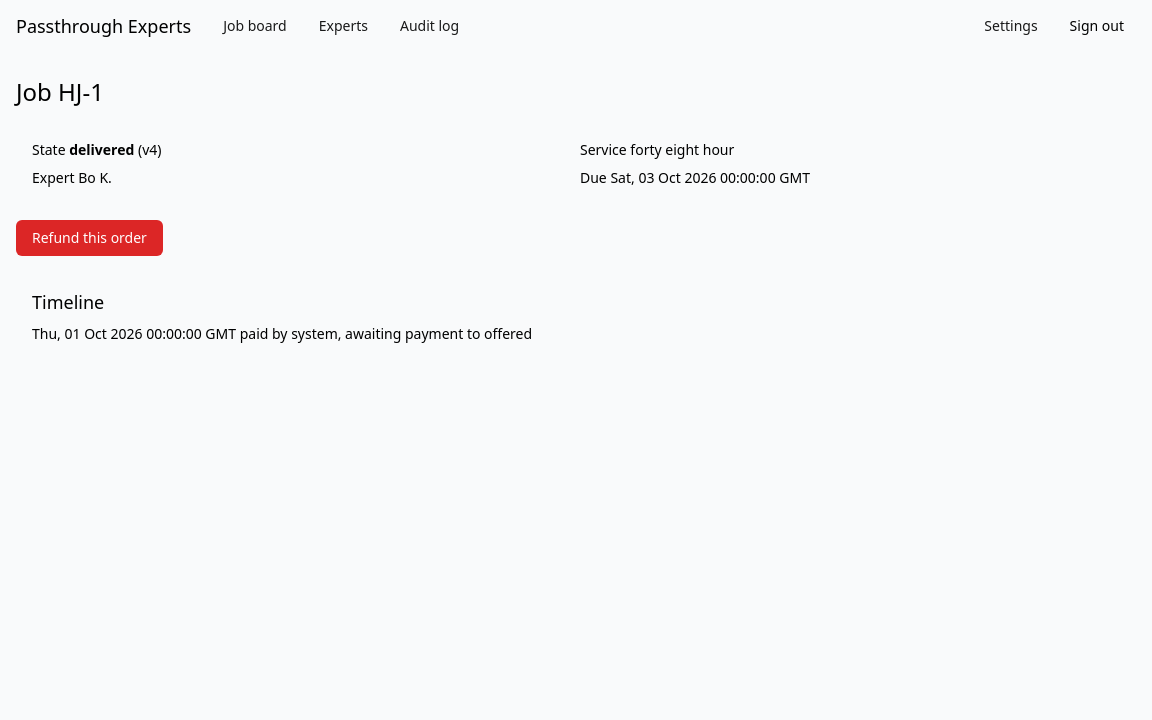
Scenario: the refund confirmation › states the consequence, needs a reason, and asks for the password only when the server requires it, reusing one request key
Click the button "Refund this order".
click(89, 238)  # box [16, 220, 163, 256]
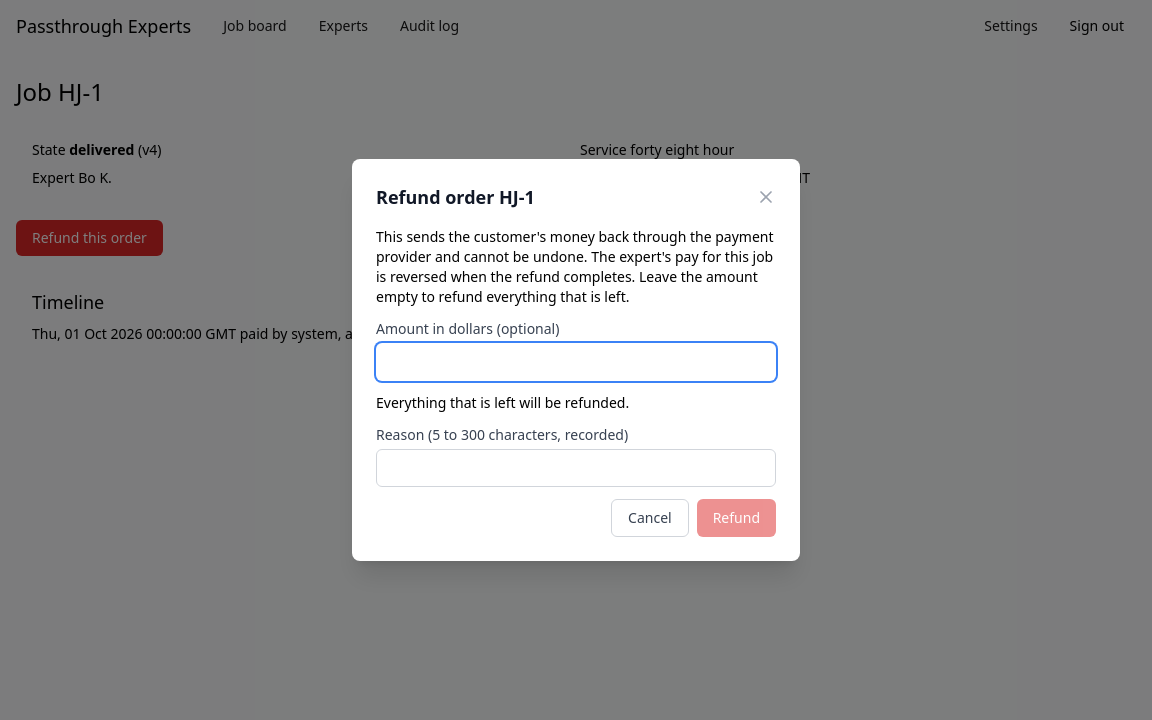
Now the text "cannot be undone" is shown, box [376, 227, 774, 306]
Now the button "Refund" is disabled, box [697, 499, 776, 537]
Type "duplicate order" into the field labelled "Reason (5 to 300 characters, recorded)".
click(576, 468); type("duplicate order")  # box [376, 449, 776, 487]
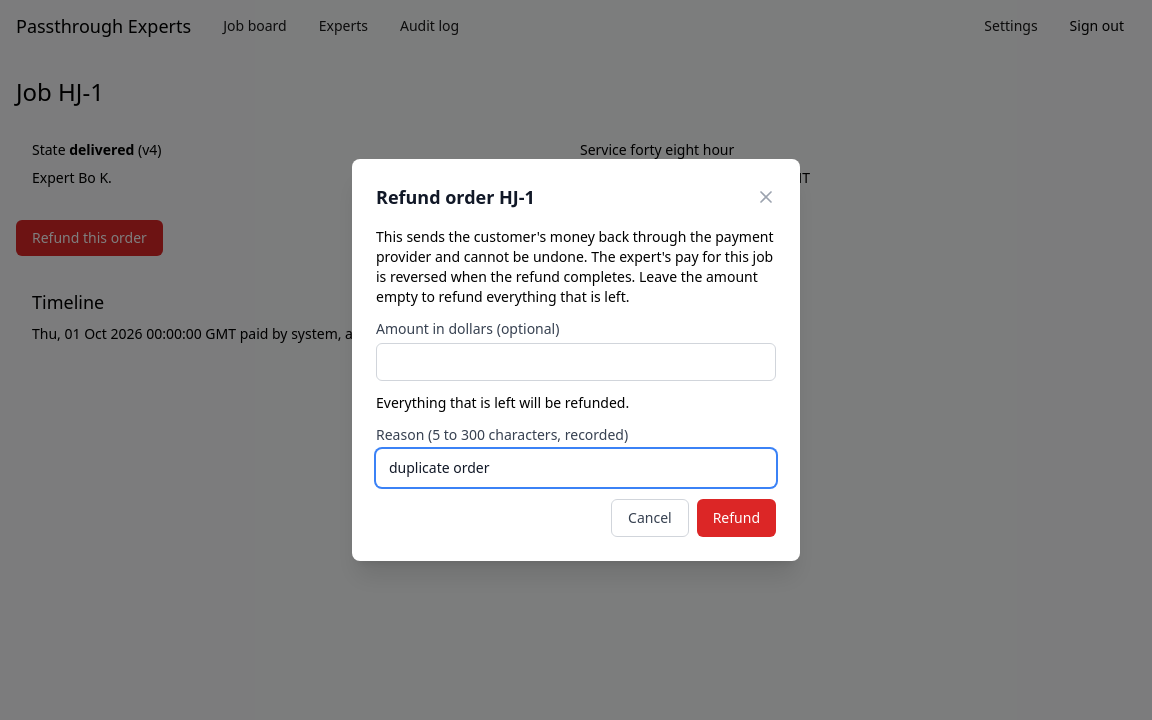
Now the button "Refund" is enabled
Click the button "Refund".
click(736, 518)  # box [697, 499, 776, 537]
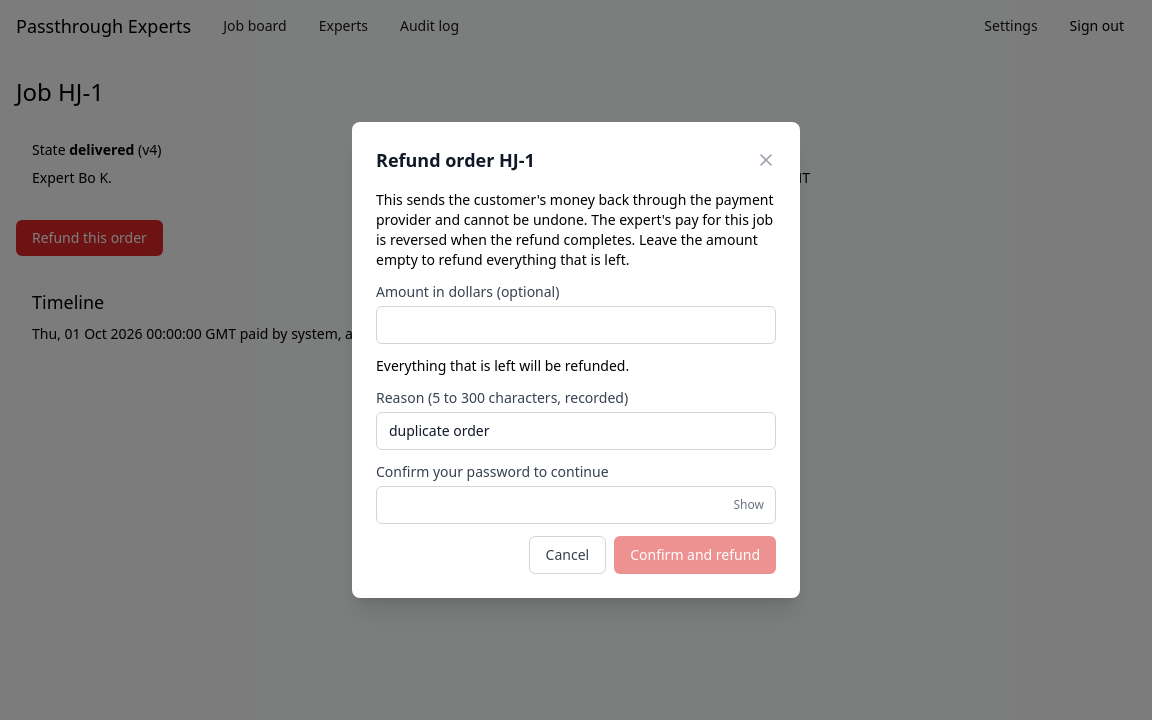
Type "secret pass" into the password field labelled "Confirm your password to continue".
click(576, 505); type("secret pass")  # box [376, 486, 776, 524]
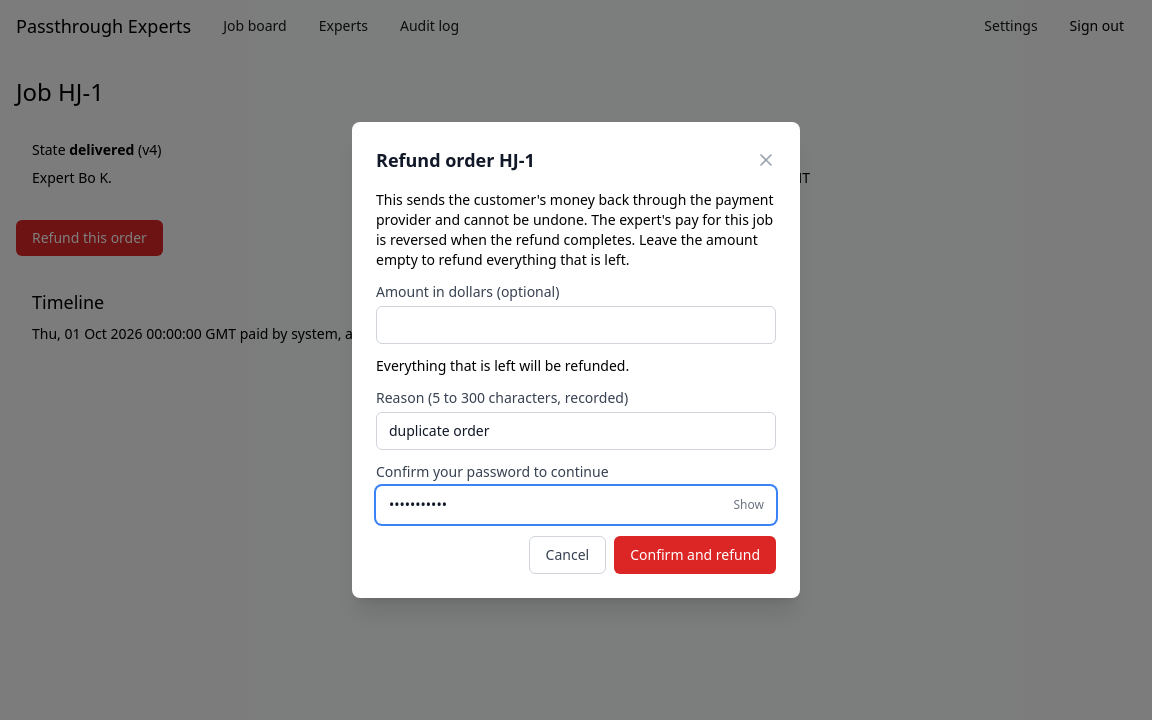
Click the button "Confirm and refund".
click(695, 555)  # box [614, 536, 776, 574]
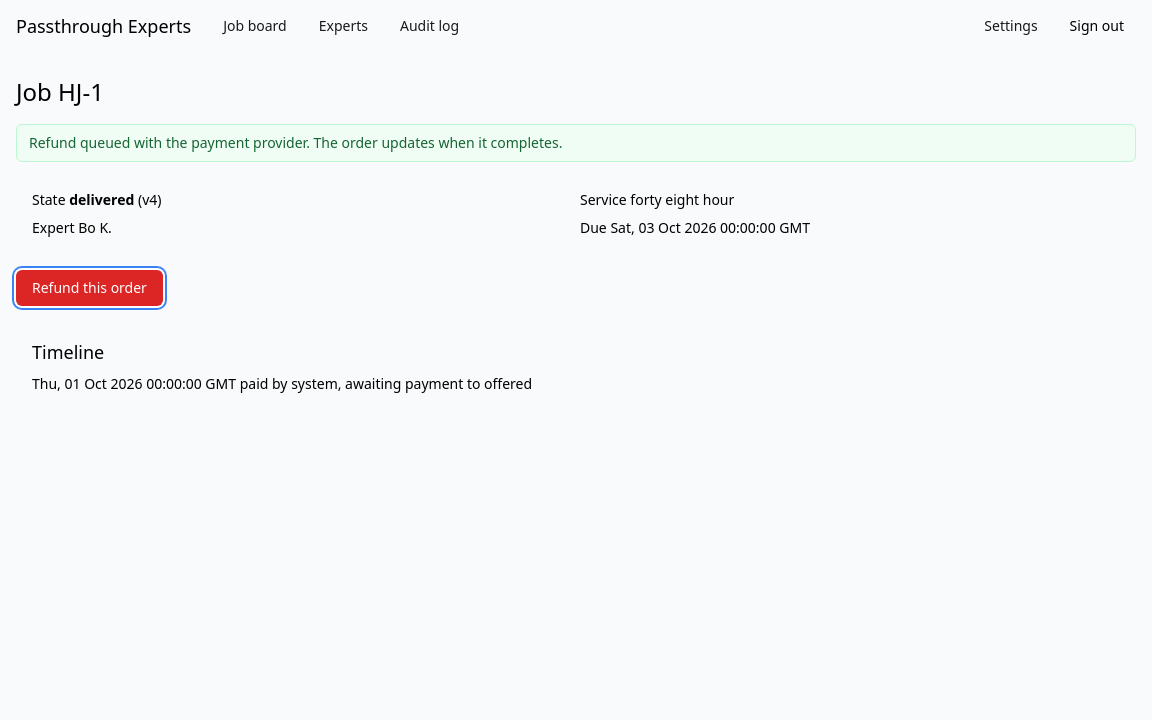
Now the text "Refund queued with the payment provider. The order updates when it completes." is shown, box [16, 124, 1136, 162]
